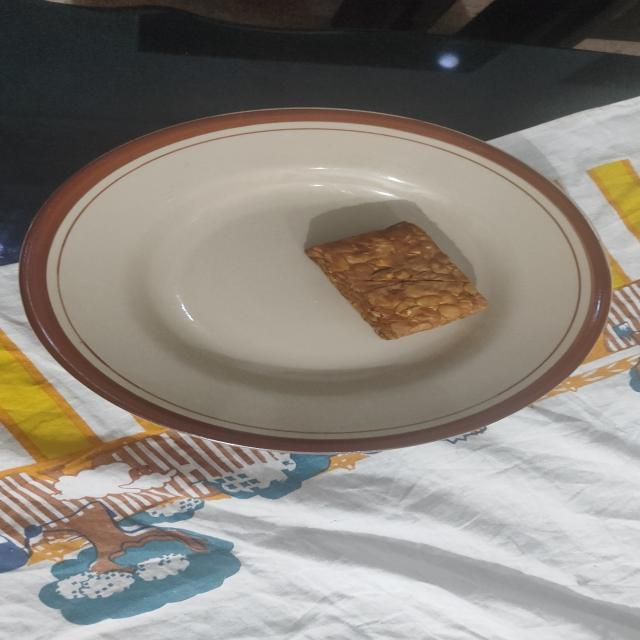tempe_goreng: (306, 222, 487, 341)
